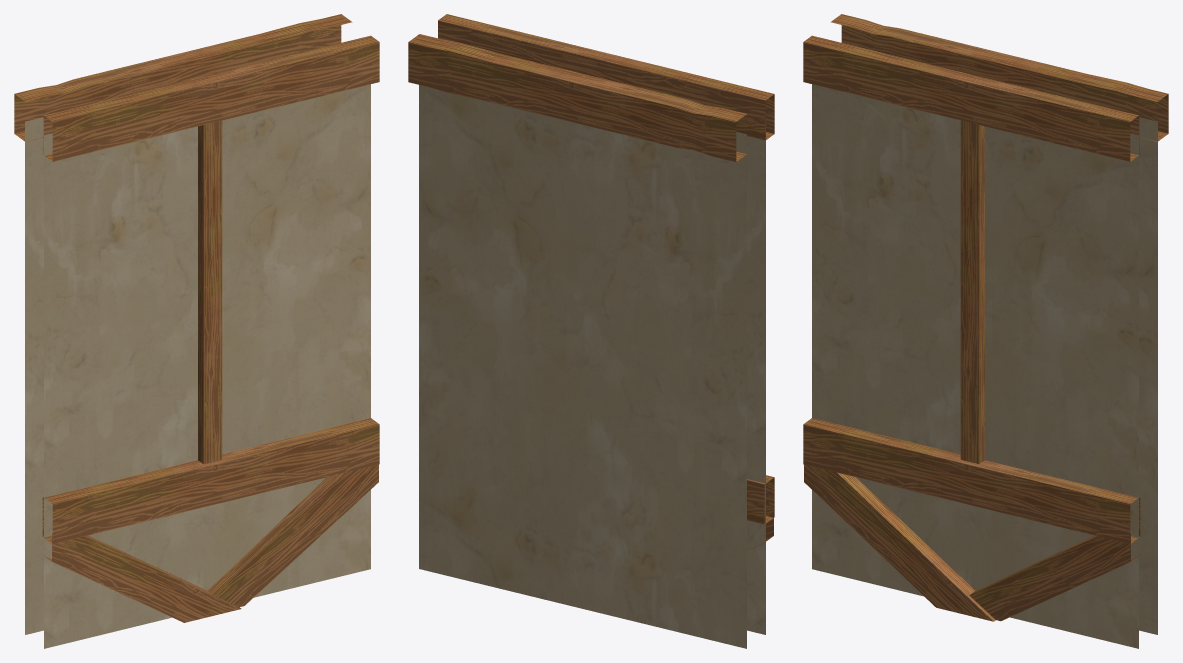
Rendered from Wall_Plaster_Straight.gltf.
3 renders of one model, left to right at view 1: azimuth 30°, elevation 25°; view 2: azimuth 150°, elevation 25°; view 3: azimuth 330°, elevation 25°, orthographic.
Parts seen in each view (by area): view 1: Wall_Plaster_Straight; view 2: Wall_Plaster_Straight; view 3: Wall_Plaster_Straight.
Boxes of the visible parts, x1,y1,x2,y2 form: Wall_Plaster_Straight: [14, 14, 379, 648]; Wall_Plaster_Straight: [408, 14, 774, 648]; Wall_Plaster_Straight: [803, 14, 1168, 648].
Size of the model in its own units: 2 by 3.12 by 0.4065.
Materials: 2 (2 with a texture image).
